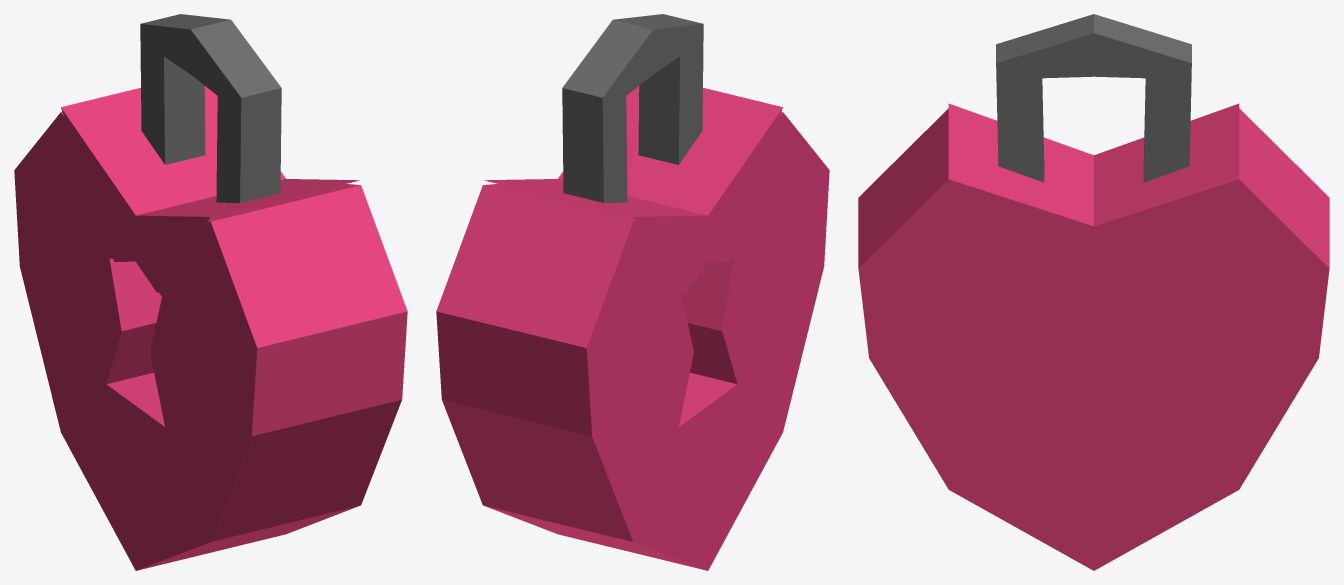
File: slot.fbx
3 views of the same model, side by side, from view 1: azimuth 30°, elevation 25°; view 2: azimuth 150°, elevation 25°; view 3: azimuth 270°, elevation 25° (orthographic). The views are drawn at different scales.
Parts seen in each view (by area): view 1: Cube.003; view 2: Cube.003; view 3: Cube.003.
Boxes of the visible parts, box(x1,y1,x2,y2) form: Cube.003: box(14, 14, 407, 570); Cube.003: box(436, 14, 829, 570); Cube.003: box(858, 14, 1329, 570).
Size of the model in its own units: 116 by 389 by 324.
